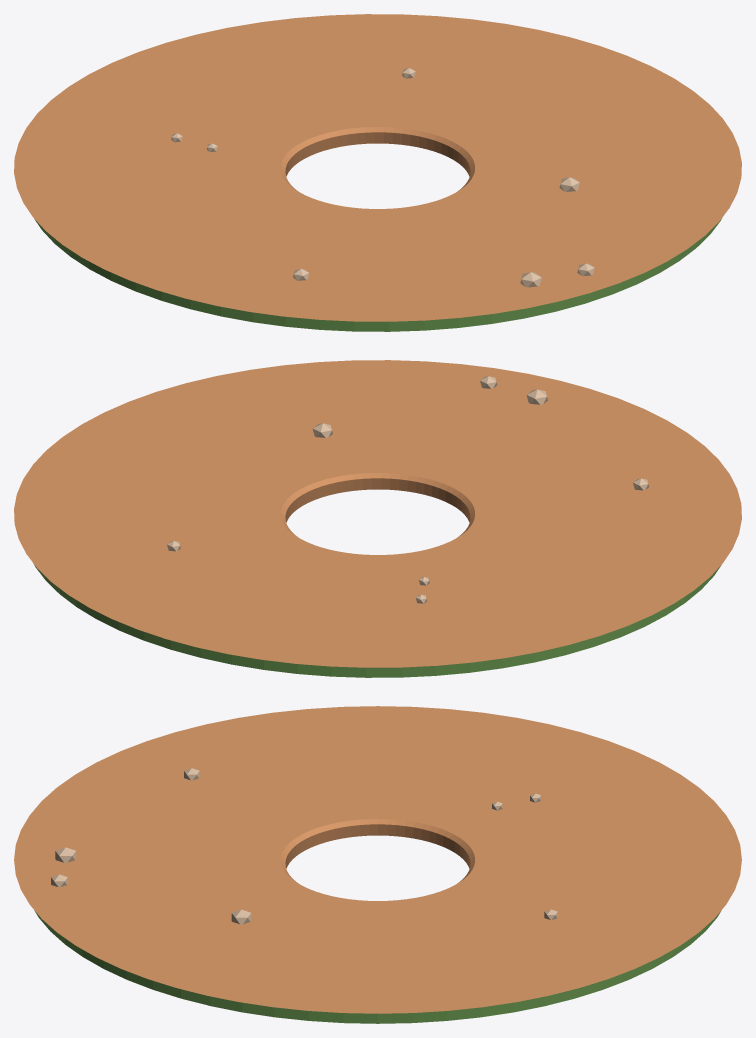
The model's file is goo_jar_deck_3@garden.fbx.
3 views of the same model, one above another, from view 1: azimuth 30°, elevation 25°; view 2: azimuth 150°, elevation 25°; view 3: azimuth 270°, elevation 25° (orthographic).
Parts seen in each view (by area): view 1: goo_jar_deck_3; view 2: goo_jar_deck_3; view 3: goo_jar_deck_3.
Boxes of the visible parts, x1,y1,x2,y2 form: goo_jar_deck_3: (14, 14, 741, 331); goo_jar_deck_3: (14, 360, 741, 677); goo_jar_deck_3: (14, 706, 741, 1023).
Size of the model in its own units: 47.2 by 1.84 by 47.2.
